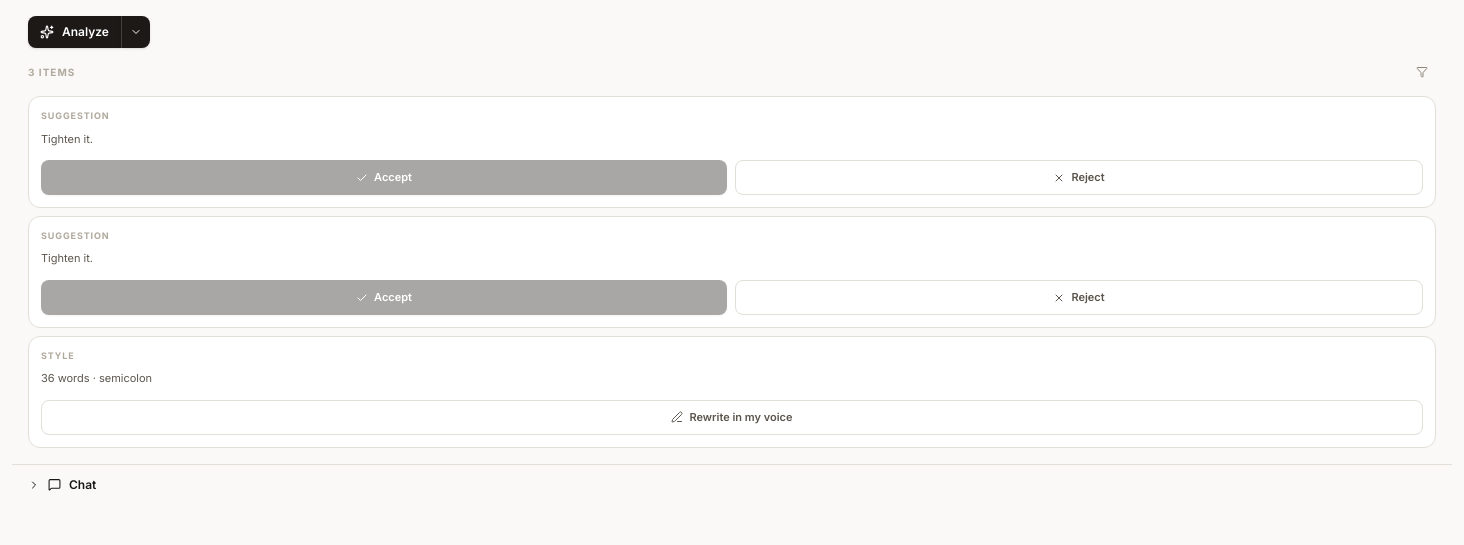
Test case: ReviewPanel › filters suggestions by severity and says how many are hidden
The width and height of the screenshot is (1464, 545).
Click the button with test id "control-filter" at (1422, 72), box [1408,60,1436,84]
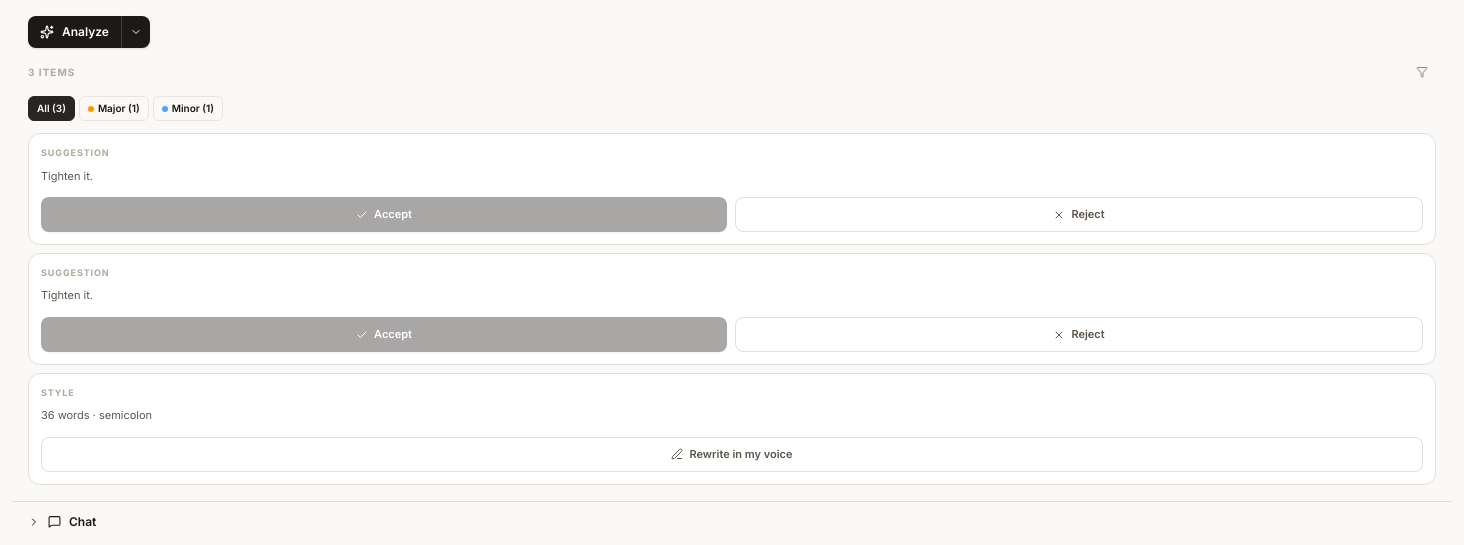
Click the button "Major (1)" at (114, 108), box [79,96,149,121]
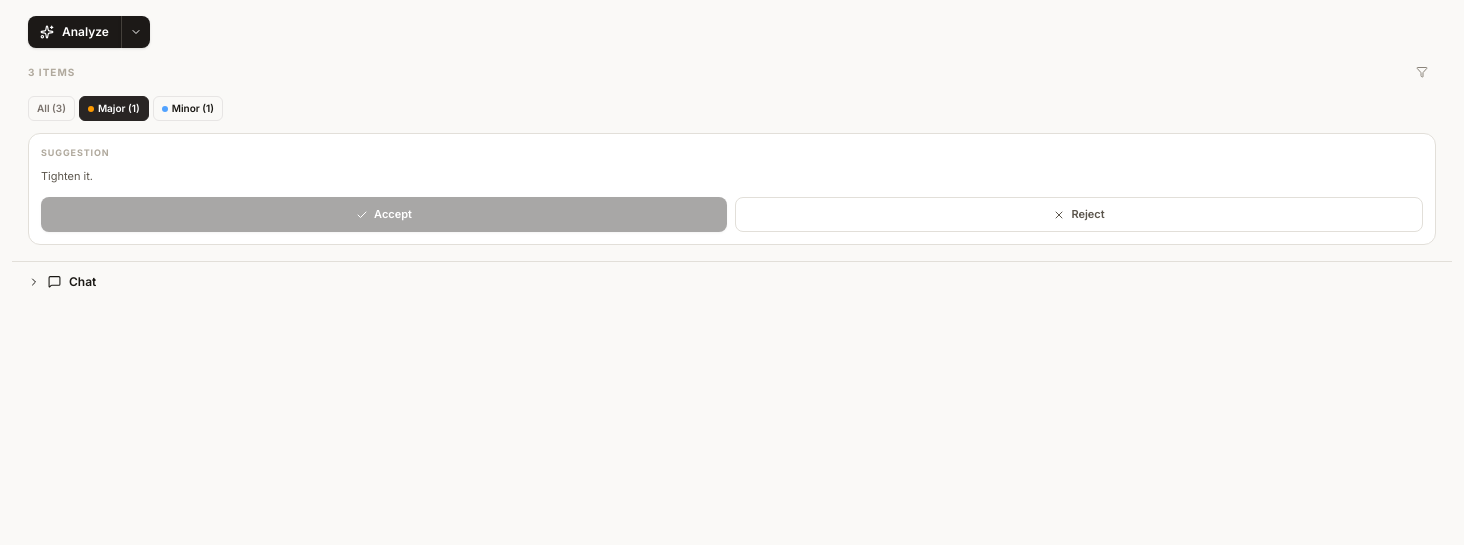
Result: the number of elements with test id "row-suggestion" is 1 at [28,133,1436,245]
Result: the element with test id "row-style" is gone
